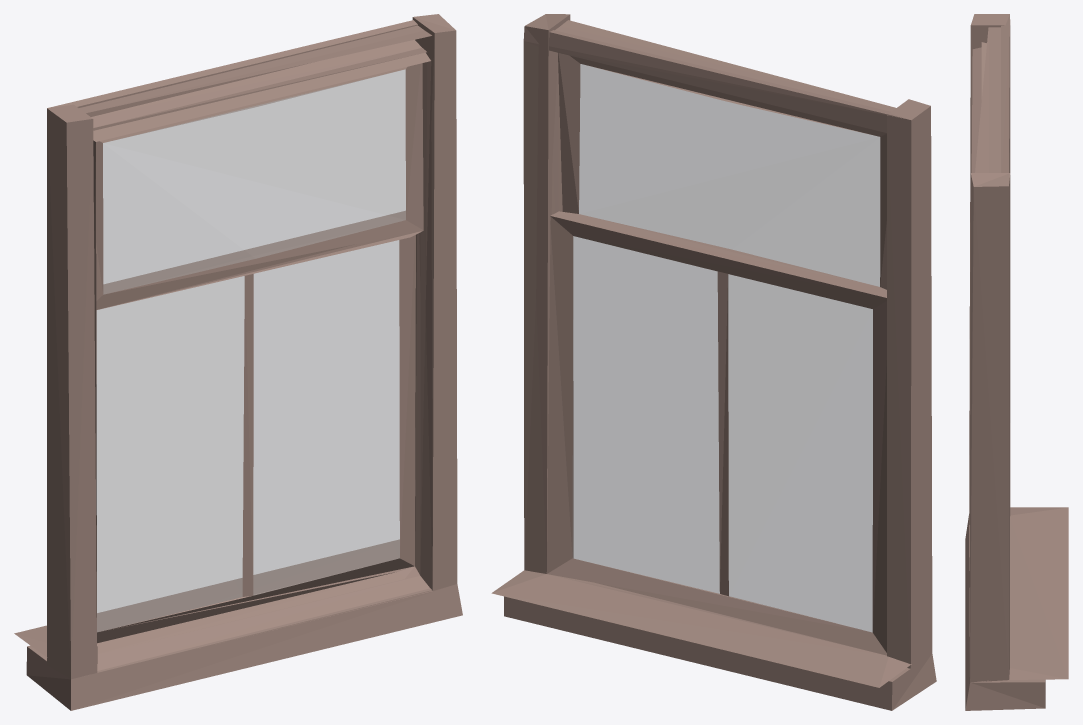
Rendered from window3.dae.
3 views of the same model, side by side, from view 1: azimuth 30°, elevation 25°; view 2: azimuth 150°, elevation 25°; view 3: azimuth 270°, elevation 25° (orthographic). The views are drawn at different scales.
Visible parts, largest first — view 1: Cube.002; view 2: Cube.002; view 3: Cube.002.
Boxes of the visible parts, <box> form: Cube.002: <box>14,14,462,710</box>; Cube.002: <box>491,14,936,710</box>; Cube.002: <box>965,14,1068,710</box>.
Bounding box in the file's own units: 0.7063 × 0.1792 × 1.01.
